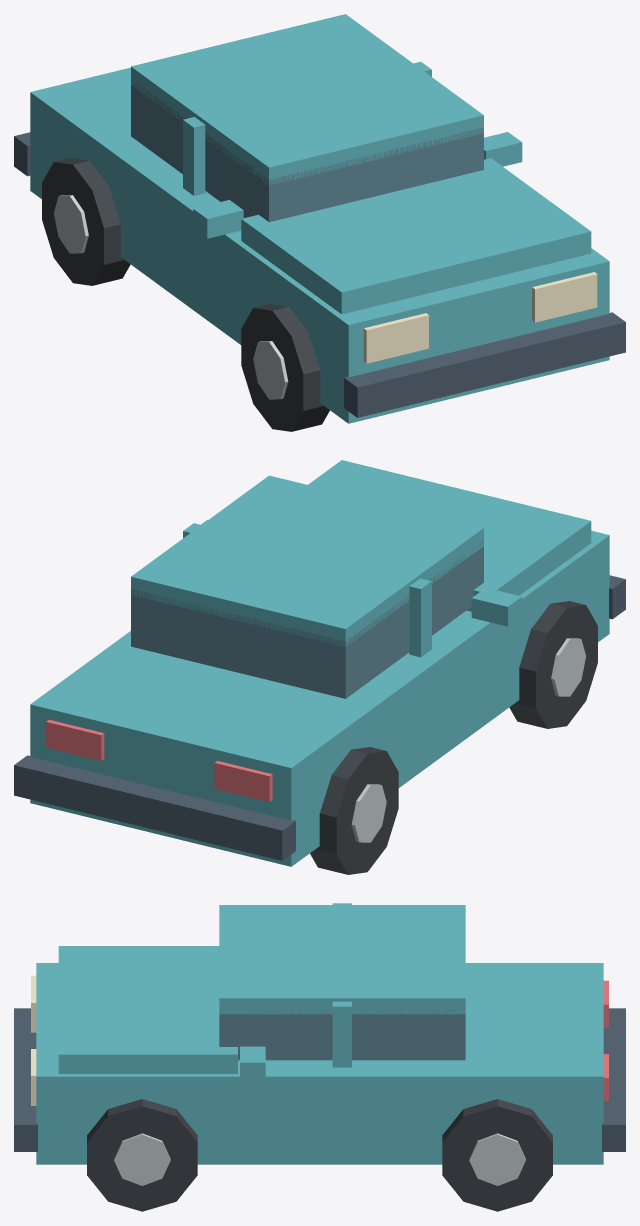
The model's file is compact_car.glb.
3 renders of one model, top to bottom at view 1: azimuth 30°, elevation 25°; view 2: azimuth 150°, elevation 25°; view 3: azimuth 270°, elevation 25°, orthographic. The views are drawn at different scales.
Parts seen in each view (by area): view 1: body, roof, hood, cabin, wheel (×2), bumper_front, headlight (×2), hub (×2), mirror (×2), pillar, bumper_rear; view 2: body, roof, cabin, wheel (×2), hood, bumper_rear, taillight (×2), hub (×2), pillar, mirror, bumper_front; view 3: body, roof, hood, wheel (×2), cabin, hub (×2), bumper_rear, bumper_front, pillar, mirror.
Part boxes in pixels (x1,y1,x2,y2): body: (30, 67, 609, 423); roof: (131, 14, 483, 184); hood: (241, 158, 591, 314); cabin: (131, 82, 483, 222); wheel (×2): (42, 158, 329, 431); bumper_front: (344, 312, 625, 417); headlight (×2): (363, 272, 597, 363); hub (×2): (54, 195, 288, 399); mirror (×2): (193, 132, 522, 238); pillar: (183, 117, 205, 195); bumper_rear: (14, 132, 30, 176); body: (30, 530, 609, 866); roof: (131, 475, 483, 647); cabin: (131, 540, 483, 698); wheel (×2): (310, 601, 597, 874); hood: (308, 460, 591, 611); bumper_rear: (14, 755, 295, 860); taillight (×2): (46, 719, 272, 801); hub (×2): (351, 638, 585, 842); pillar: (409, 578, 431, 657); mirror: (471, 587, 522, 626); bumper_front: (609, 575, 625, 619); body: (36, 963, 603, 1164); roof: (219, 905, 465, 1014); hood: (58, 946, 237, 1073); wheel (×2): (87, 1099, 552, 1211); cabin: (219, 1009, 465, 1060); hub (×2): (114, 1133, 525, 1185); bumper_rear: (602, 1008, 625, 1151); bumper_front: (14, 1008, 37, 1151); pillar: (332, 1001, 351, 1067); mirror: (240, 1046, 265, 1080).
Bounding box in the file's own units: 2.17 × 1.45 × 4.1.
